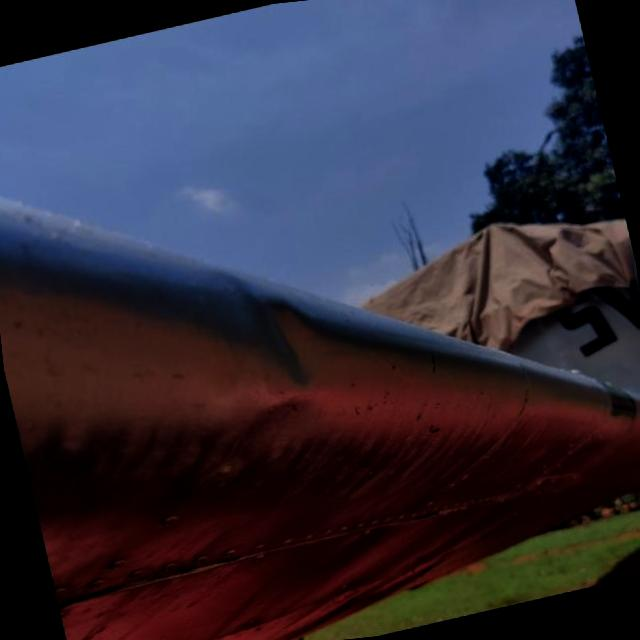dent: (206, 257, 356, 399)
